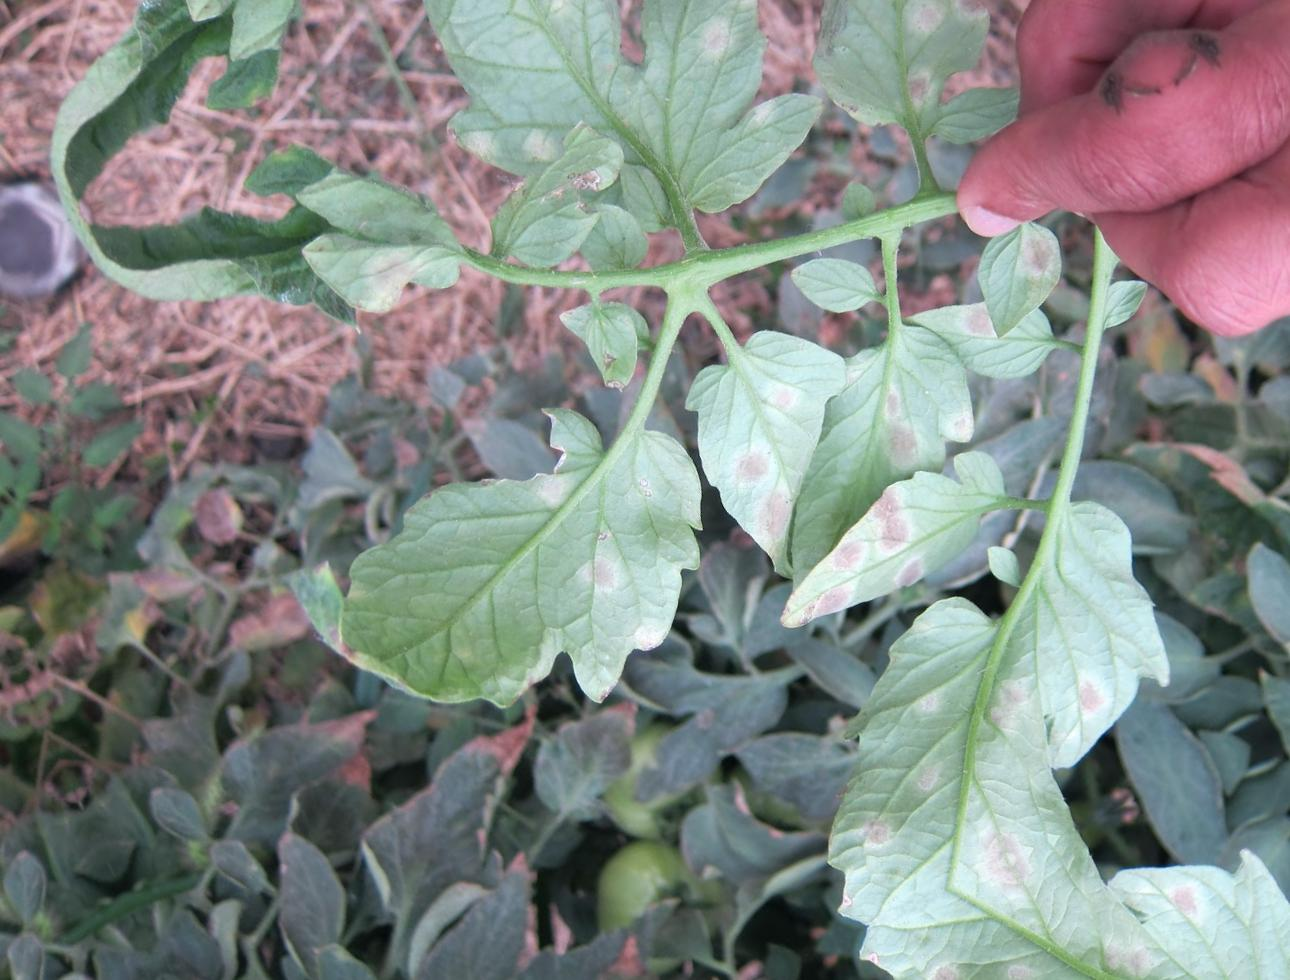Tomato mold leaf: (220, 374, 771, 828), (716, 484, 1224, 937), (31, 73, 479, 448), (424, 0, 857, 292), (705, 297, 1028, 603), (644, 290, 934, 602), (737, 432, 1066, 676), (745, 0, 1042, 196), (450, 109, 652, 299), (938, 209, 1102, 372)
